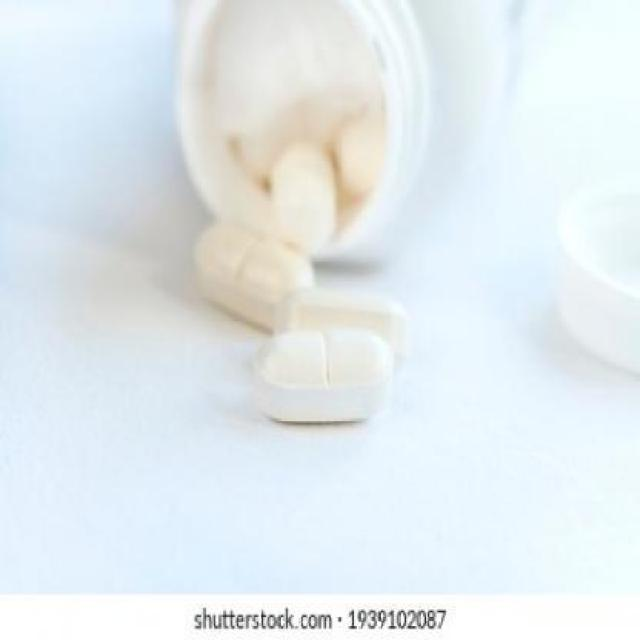B3: (188, 192, 390, 405)
